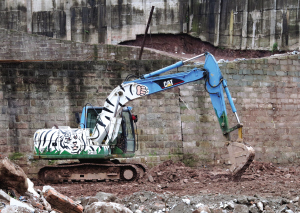excavator: (34, 49, 257, 191)
